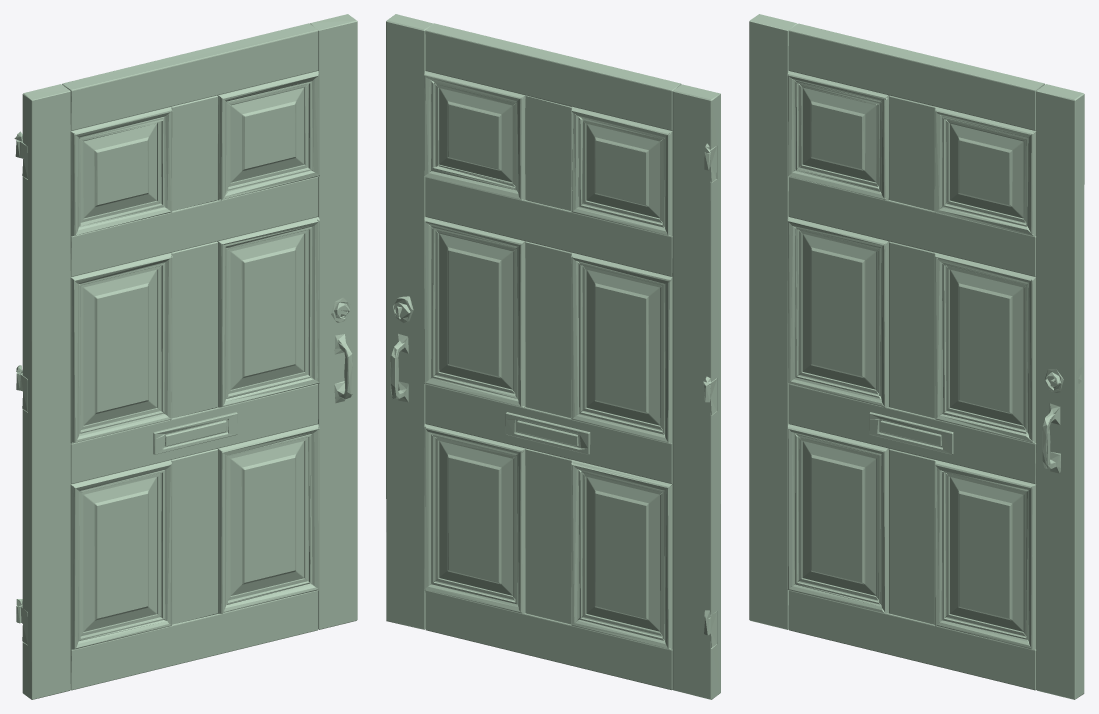
Rendered from SM_FrontDoor_A_Door.fbx.
3 views of the same model, side by side, from view 1: azimuth 30°, elevation 25°; view 2: azimuth 150°, elevation 25°; view 3: azimuth 330°, elevation 25° (orthographic).
Visible parts, largest first — view 1: SM_FrontDoor_A_Door; view 2: SM_FrontDoor_A_Door; view 3: SM_FrontDoor_A_Door.
Part boxes in pixels (<box>): SM_FrontDoor_A_Door: <box>14,14,357,699</box>; SM_FrontDoor_A_Door: <box>386,14,720,699</box>; SM_FrontDoor_A_Door: <box>749,14,1084,699</box>.
Size of the model in its own units: 126 by 22.04 by 220.
